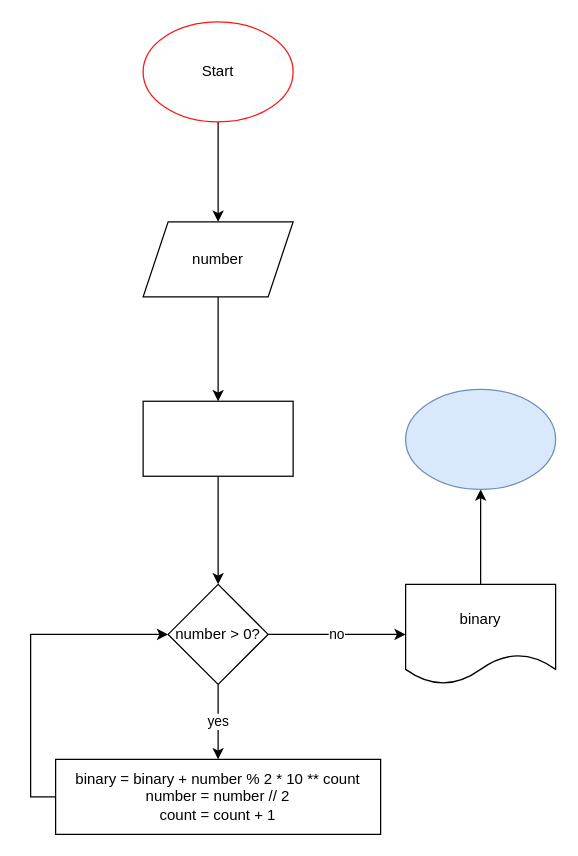
Image size: 578x856. Some labels were removed from this diagram. Each missing label, with the centre of its shape:
"binary = 0 count = 0" goes at [217,438].
"Finish" goes at [480,438].
